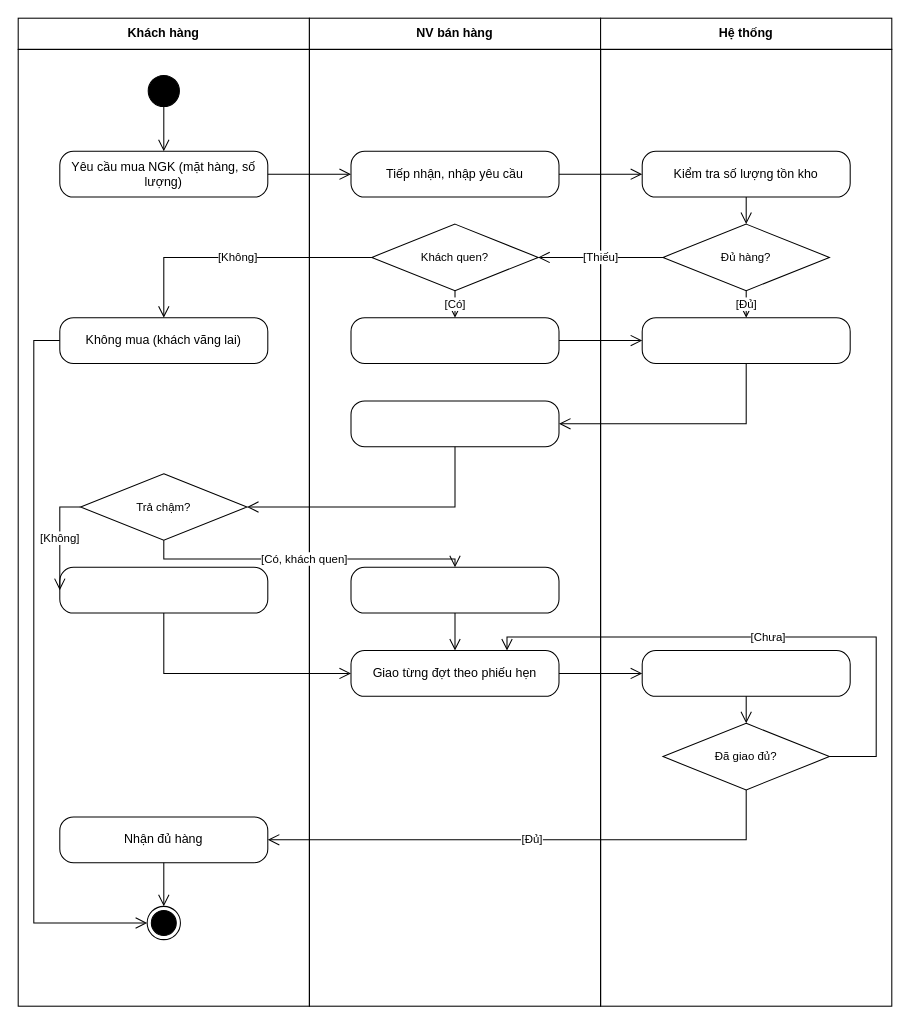
This 910x1024 diagram has some shape labels left out. Each missing label, with the centre of its shape:
"Cập nhật phiếu hẹn, tồn kho" goes at (x=745, y=672).
"Giao hàng ngay kèm hóa đơn" goes at (x=454, y=423).
"Lập hóa đơn, trừ tồn kho" goes at (x=745, y=340).
"Lập phiếu ghi nợ" goes at (x=454, y=589).
"Lập phiếu hẹn giao nhiều đợt" goes at (x=454, y=340).
"Thanh toán hóa đơn" goes at (x=163, y=589).
